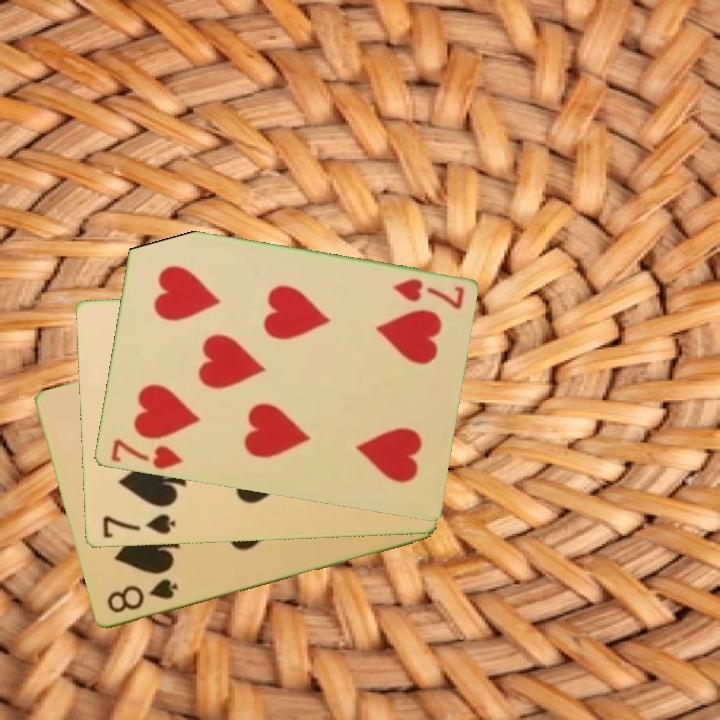7h: (107, 435, 186, 473), (389, 275, 467, 313)
7s: (99, 511, 178, 541)
8s: (103, 575, 181, 617)
